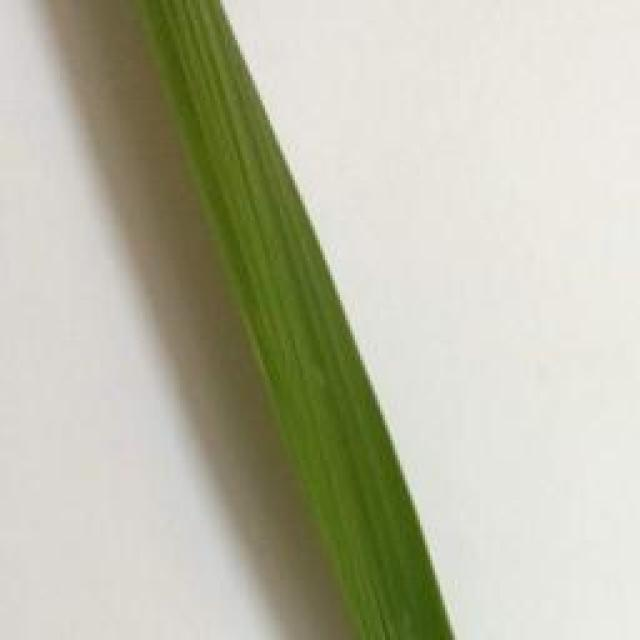Healthy-Plant: (138, 0, 452, 640)
